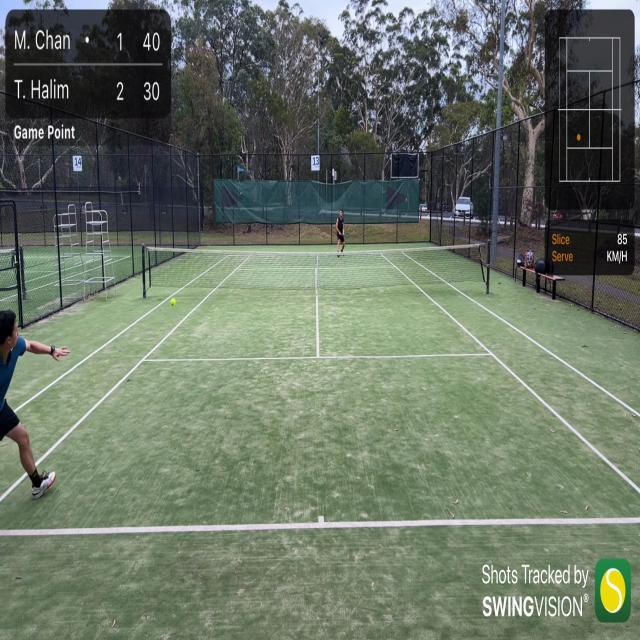ball: (169, 298, 178, 306)
